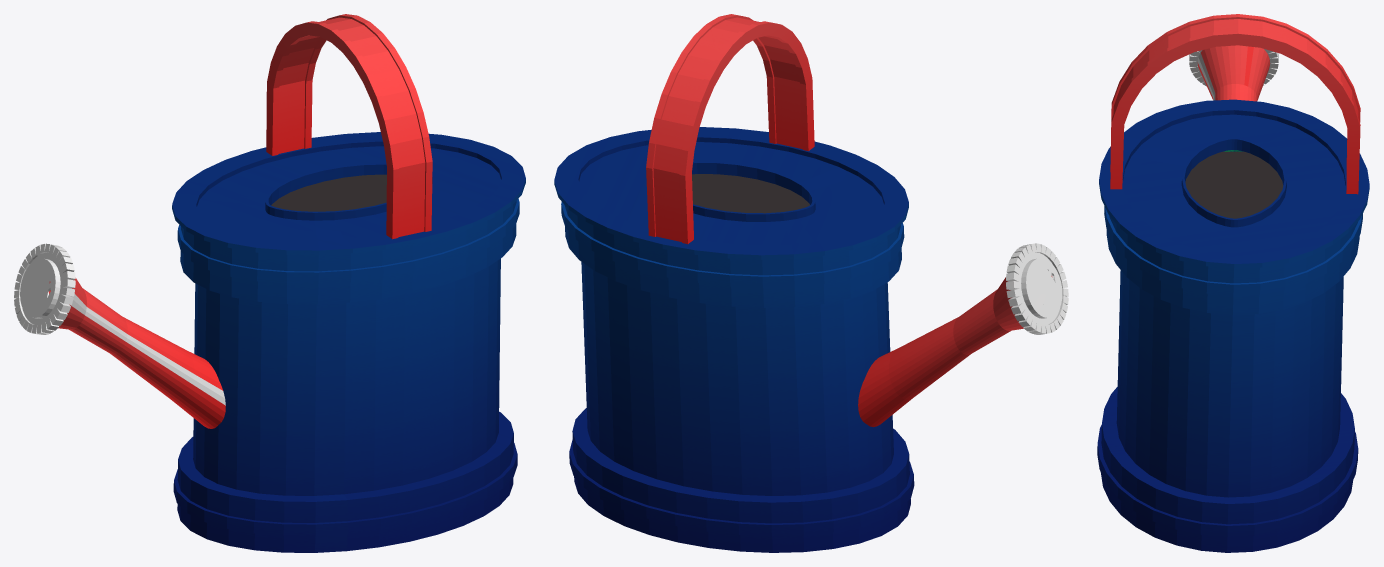
The model's file is RegadoRRR.fbx.
The picture shows the model from 3 angles, left to right: view 1: azimuth 30°, elevation 25°; view 2: azimuth 150°, elevation 25°; view 3: azimuth 270°, elevation 25°; orthographic projection. The views are drawn at different scales.
Visible parts, largest first — view 1: Plane; view 2: Plane; view 3: Plane.
Boxes of the visible parts, box(x1,y1,x2,y2) form: Plane: box(14, 14, 525, 552); Plane: box(554, 14, 1068, 552); Plane: box(1097, 14, 1369, 552).
Bounding box in the file's own units: 117 × 108 × 57.82.
1 material, 1 textured.
